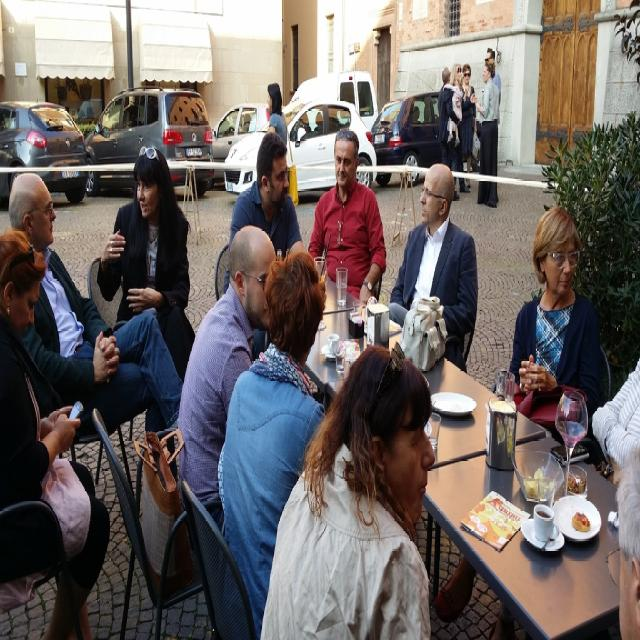Table: (431, 439, 624, 640), (306, 310, 544, 464), (324, 274, 360, 312)
